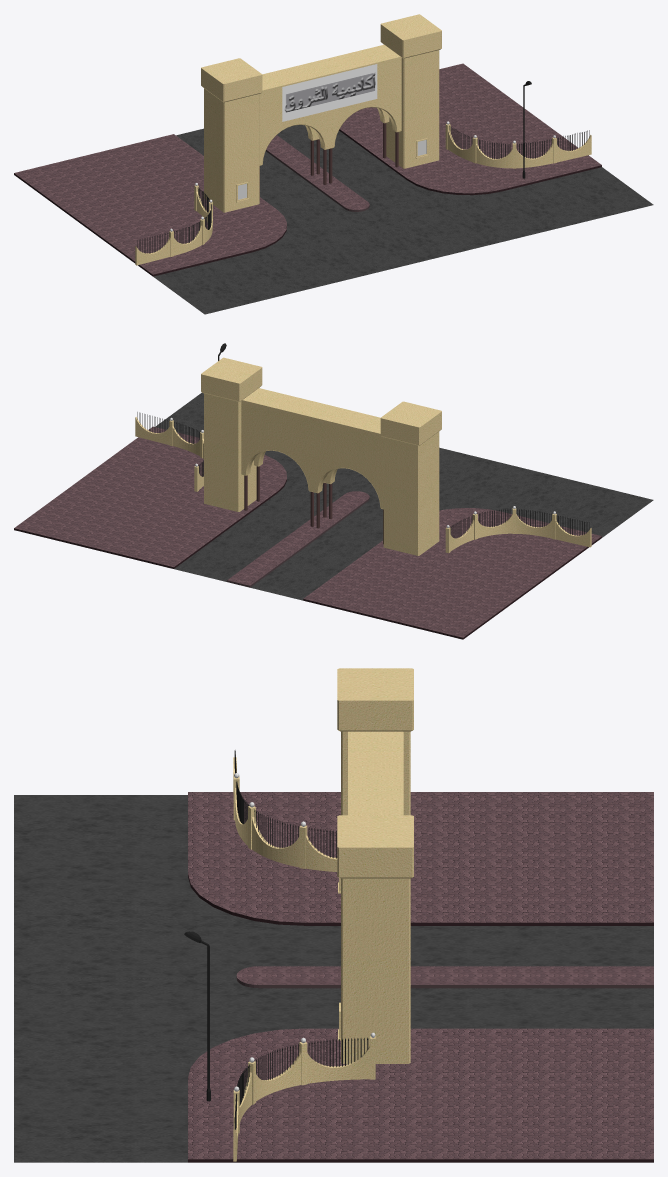
Rendered from academeya.fbx.
3 views of the same model, one above another, from view 1: azimuth 30°, elevation 25°; view 2: azimuth 150°, elevation 25°; view 3: azimuth 270°, elevation 25° (orthographic). The views are drawn at different scales.
Visible parts, largest first — view 1: Plane, Cube, Plane.002, Plane.001; view 2: Plane, Cube, Plane.002; view 3: Plane, Cube, Plane.002.
Boxes of the visible parts, <box> form: Plane: <box>14,63,653,314</box>; Cube: <box>201,14,441,212</box>; Plane.002: <box>135,121,591,265</box>; Plane.001: <box>282,64,377,121</box>; Plane: <box>14,393,653,639</box>; Cube: <box>201,357,441,555</box>; Plane.002: <box>135,412,591,553</box>; Plane: <box>14,792,653,1162</box>; Cube: <box>337,668,413,1063</box>; Plane.002: <box>233,750,375,1161</box>.
Bounding box in the file's own units: 2533 × 700 × 1840.
Materials: 8 (4 with a texture image).
